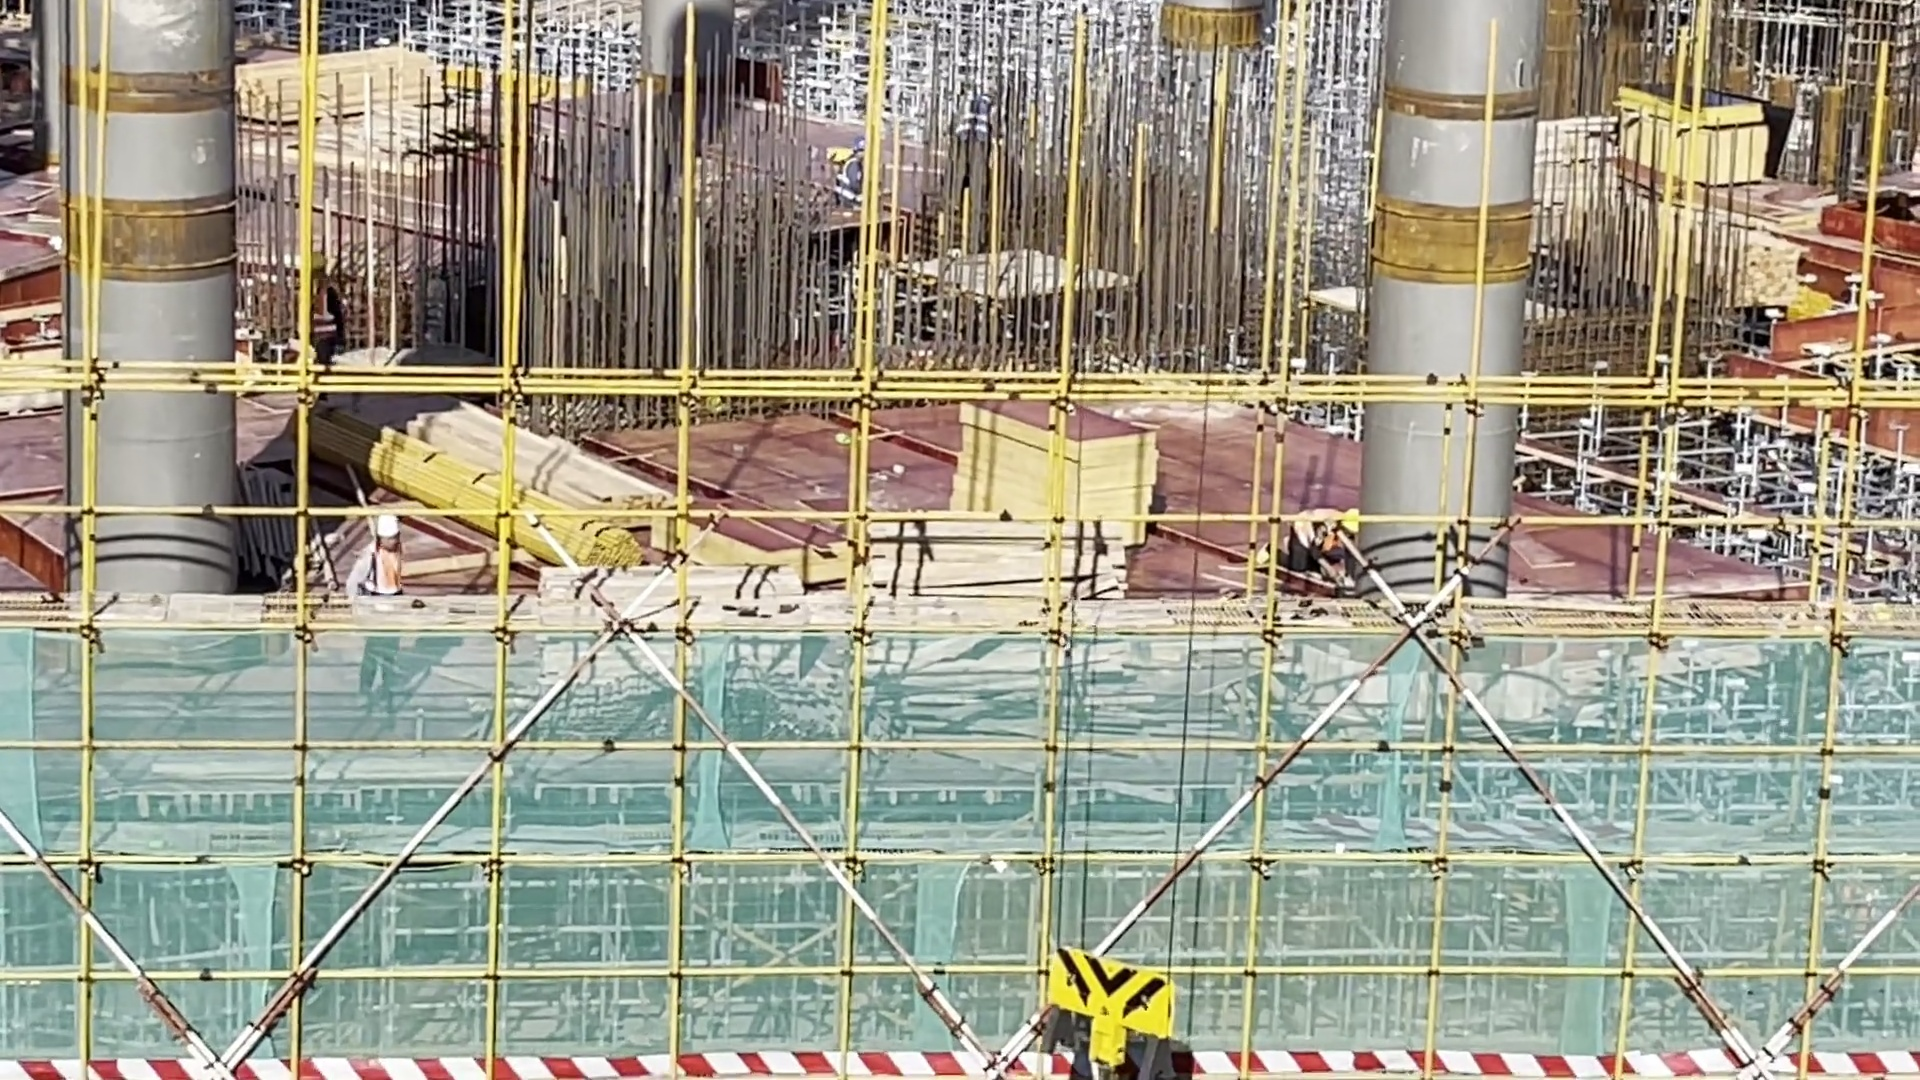board: (938, 392, 1174, 537), (1620, 76, 1773, 187)
helmet: (373, 515, 400, 535)
hook: (1042, 939, 1183, 1076)
person: (344, 510, 419, 700), (1275, 495, 1366, 583), (301, 254, 347, 364)
vest: (366, 552, 408, 613), (310, 290, 334, 346)
wood: (438, 410, 669, 574), (1743, 247, 1802, 304)
